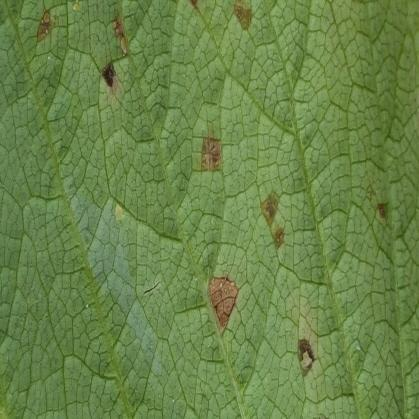Angular Leafspot: (25, 0, 397, 376)
